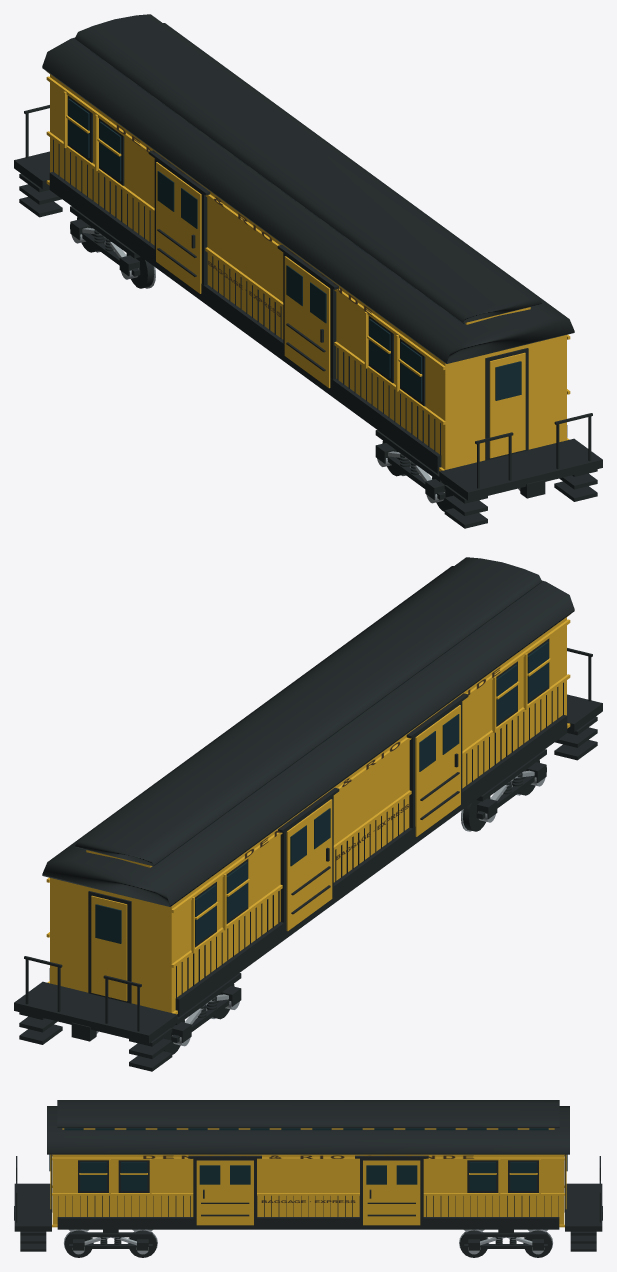
The model's file is drgw-wood-baggage-1435.glb.
3 renders of one model, top to bottom at view 1: azimuth 30°, elevation 25°; view 2: azimuth 150°, elevation 25°; view 3: azimuth 270°, elevation 25°, orthographic. The views are drawn at different scales.
Parts seen in each view (by area): view 1: body, bogie_1, bogie_0, baggage-door (×2); view 2: body, bogie_0, bogie_1, baggage-door (×2); view 3: body, bogie_0, bogie_1, wheel (×4), baggage-door (×2), lettering_2.
Boxes of the visible parts, x1,y1,x2,y2 form: body: [14, 14, 602, 528]; bogie_1: [70, 206, 155, 288]; bogie_0: [375, 430, 520, 503]; baggage-door (×2): [154, 158, 336, 379]; body: [14, 557, 602, 1071]; bogie_0: [461, 749, 546, 831]; bogie_1: [96, 973, 241, 1046]; baggage-door (×2): [280, 701, 462, 922]; body: [14, 1100, 602, 1251]; bogie_0: [64, 1229, 157, 1254]; bogie_1: [459, 1229, 552, 1254]; wheel (×4): [64, 1230, 552, 1257]; baggage-door (×2): [193, 1158, 423, 1218]; lettering_2: [143, 1155, 473, 1158].
Size of the model in its own units: 2.63 by 3.87 by 15.2.
8 materials, 4 textured.
